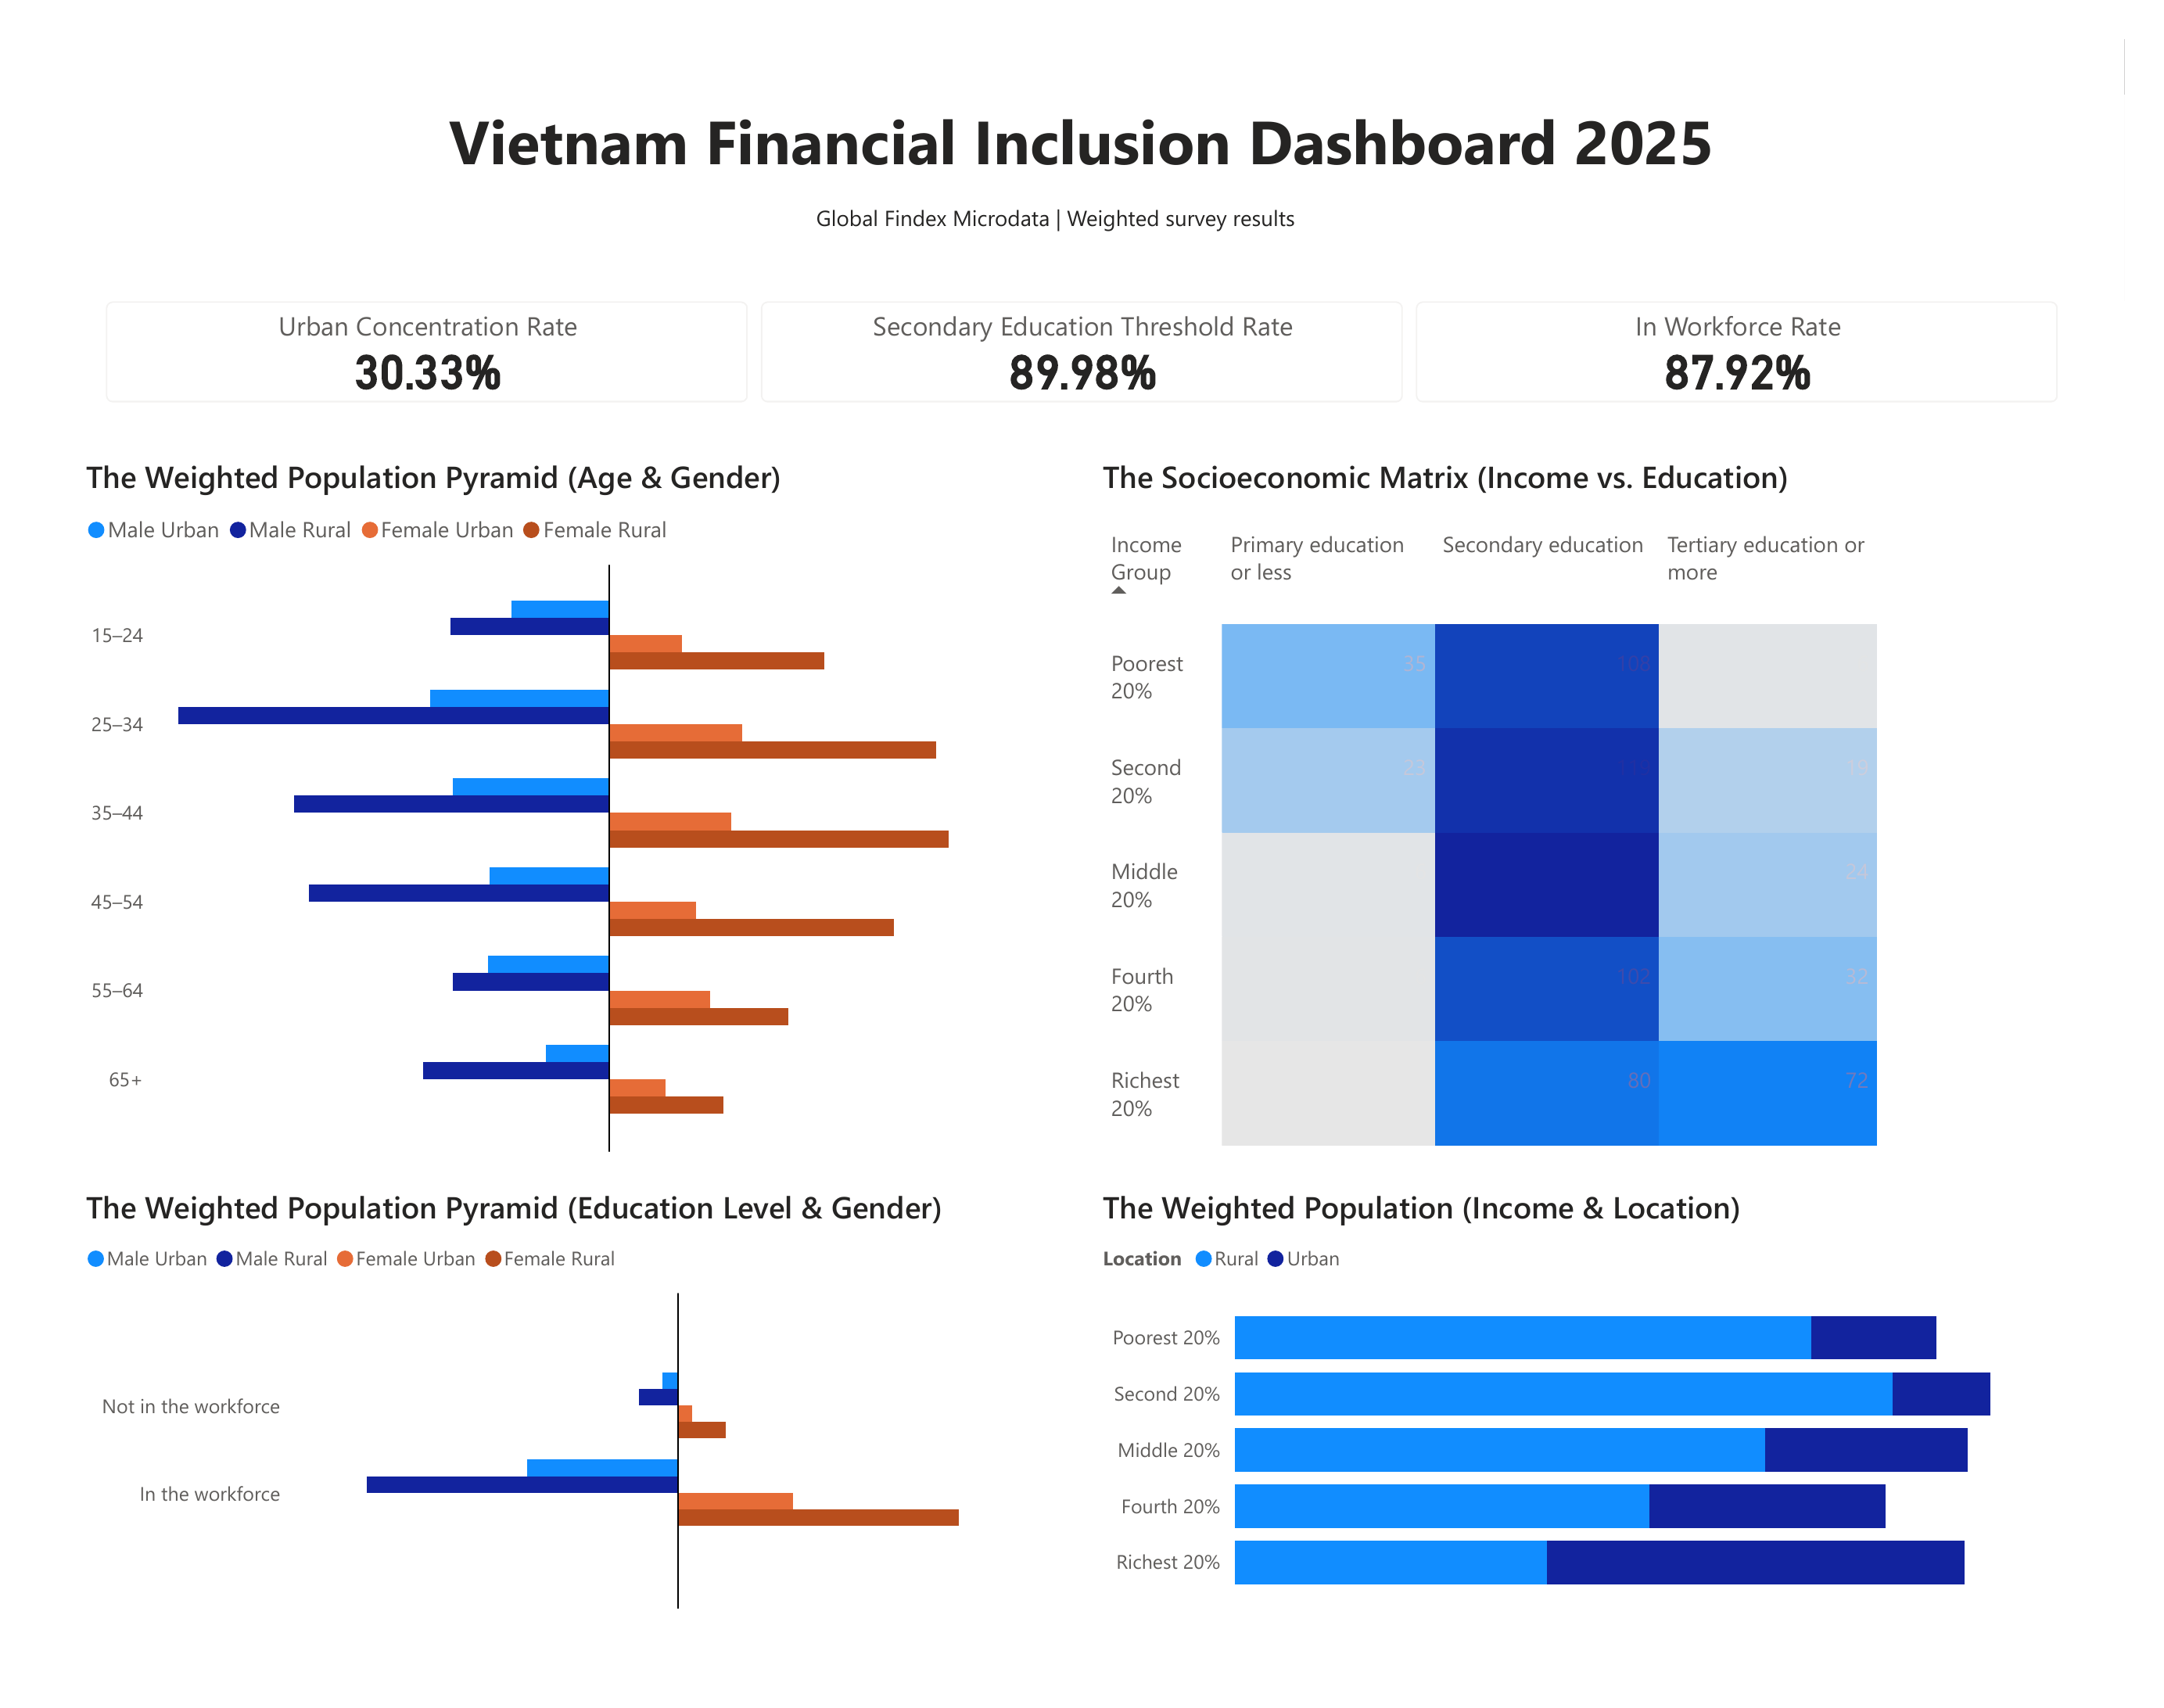

What the dashboard file says about the page in this screenshot:
{"tool":"powerbi","page":{"name":"Demographic Architecture & Population Baseline","canvas":[1280,1000],"ordinal":0},"visuals":[{"type":"textbox","box":[240,32,800,64],"z":0},{"type":"textbox","box":[432,96,384,32],"z":1000},{"type":"pivotTable","title":"The Socioeconomic Matrix (Income vs. Education)","fields":{"Rows":["Findex_Microdata_2025_updateViet Nam.Income Group"],"Columns":["Findex_Microdata_2025_updateViet Nam.Education Level"],"Values":["Findex_Microdata_2025_updateViet Nam.Total Weighted Population"]},"box":[648,256,608,432],"z":2000},{"type":"clusteredBarChart","title":"The Weighted Population Pyramid (Age & Gender)","fields":{"Category":["Findex_Microdata_2025_updateViet Nam.Age Band"],"Y":["Findex_Microdata_2025_updateViet Nam.Pyramid_Male_Urban","Findex_Microdata_2025_updateViet Nam.Pyramid_Male_Rural","Findex_Microdata_2025_updateViet Nam.Pyramid_Female_Urban","Findex_Microdata_2025_updateViet Nam.Pyramid_Female_Rural"]},"box":[24,256,608,432],"z":3000},{"type":"clusteredBarChart","title":"The Weighted Population Pyramid (Education Level & Gender)","fields":{"Category":["Findex_Microdata_2025_updateViet Nam.In Workforce"],"Y":["Findex_Microdata_2025_updateViet Nam.Male Urban","Findex_Microdata_2025_updateViet Nam.Male Rural","Findex_Microdata_2025_updateViet Nam.Female Urban","Findex_Microdata_2025_updateViet Nam.Female Rural"]},"box":[24,704,608,264],"z":4000},{"type":"cardVisual","fields":{"Data":["Findex_Microdata_2025_updateViet Nam.Urban Concentration Rate","Findex_Microdata_2025_updateViet Nam.Secondary Education Threshold Rate","Findex_Microdata_2025_updateViet Nam.% In Workforce"]},"box":[24,144,1232,96],"z":5000},{"type":"barChart","title":"The Weighted Population (Income & Location)","fields":{"Category":["Findex_Microdata_2025_updateViet Nam.Income Group"],"Y":["Findex_Microdata_2025_updateViet Nam.Total Weighted Population"],"Series":["Findex_Microdata_2025_updateViet Nam.Location"]},"box":[648,704,608,264],"z":6000}]}

Visuals, with their boxes on the page's 1280x1000 design canvas (x1, y1, x2, y2). These are canvas units, not pixel positions in the 2164x1708 screenshot, which may show the page scaled, cropped or inside an application window:
textbox: select_region(240, 32, 1040, 96)
textbox: select_region(432, 96, 816, 128)
"The Socioeconomic Matrix (Income vs. Education)" pivotTable: select_region(648, 256, 1256, 688)
"The Weighted Population Pyramid (Age & Gender)" clusteredBarChart: select_region(24, 256, 632, 688)
"The Weighted Population Pyramid (Education Level & Gender)" clusteredBarChart: select_region(24, 704, 632, 968)
cardVisual - Findex_Microdata_2025_updateViet Nam.Urban Concentration Rate x Findex_Microdata_2025_updateViet Nam.Secondary Education Threshold Rate: select_region(24, 144, 1256, 240)
"The Weighted Population (Income & Location)" barChart: select_region(648, 704, 1256, 968)
